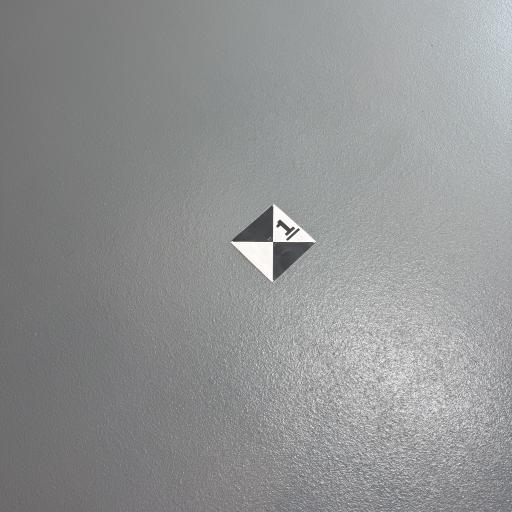target1: (229, 203, 321, 282)
